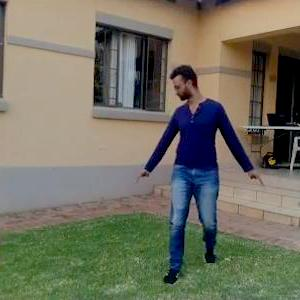land: (127, 62, 260, 289)
